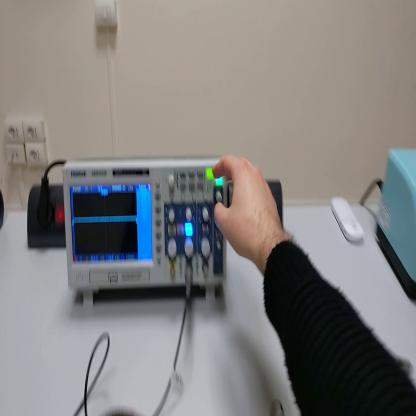hand: (212, 155, 281, 263)
oscilloscope: (63, 160, 230, 316)
socket: (27, 183, 67, 249), (1, 188, 6, 232)
welder station: (378, 147, 416, 303)
